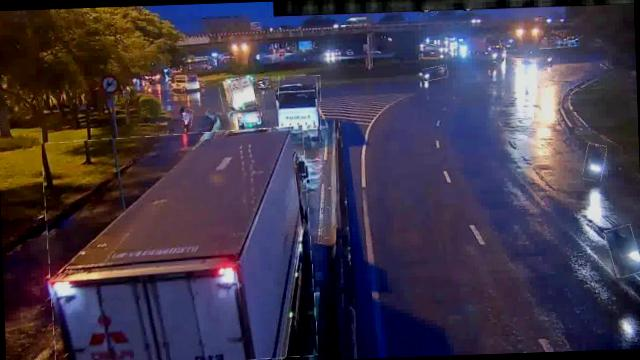Bike: (607, 225, 640, 277), (583, 144, 606, 182), (184, 109, 192, 128)
Car: (422, 66, 448, 82)
Truck: (42, 127, 316, 360), (278, 75, 322, 144), (219, 78, 255, 112)
